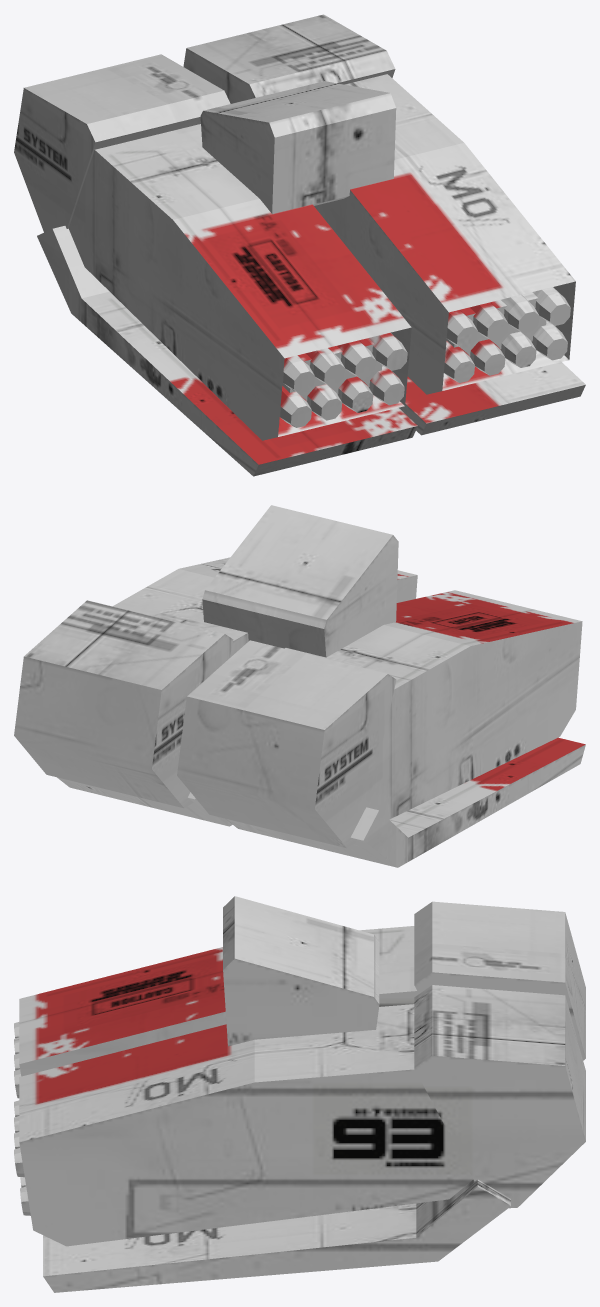
File: weapon02.FBX
The picture shows the model from 3 angles, top to bottom: view 1: azimuth 30°, elevation 25°; view 2: azimuth 150°, elevation 25°; view 3: azimuth 270°, elevation 25°; orthographic projection. The views are drawn at different scales.
Parts seen in each view (by area): view 1: weapon02; view 2: weapon02; view 3: weapon02.
Part boxes in pixels (x1,y1,x2,y2): weapon02: (14, 14, 585, 476); weapon02: (14, 505, 585, 867); weapon02: (14, 896, 585, 1292).
Size of the model in its own units: 178 by 139 by 256.
